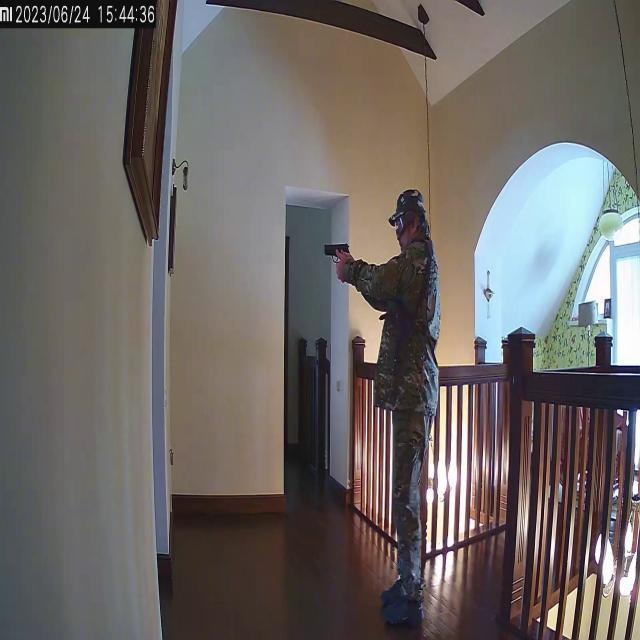pistol: (322, 239, 353, 272)
